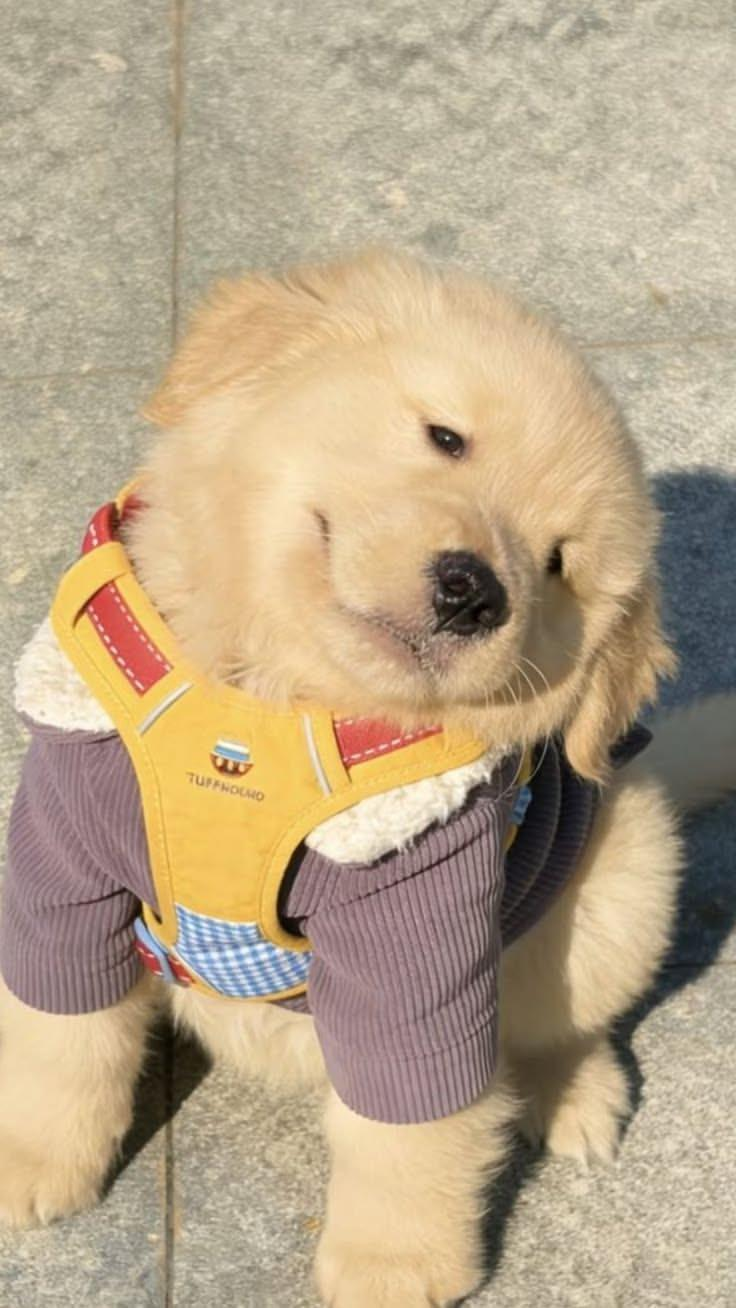puppy-dog: (0, 232, 736, 1308)
